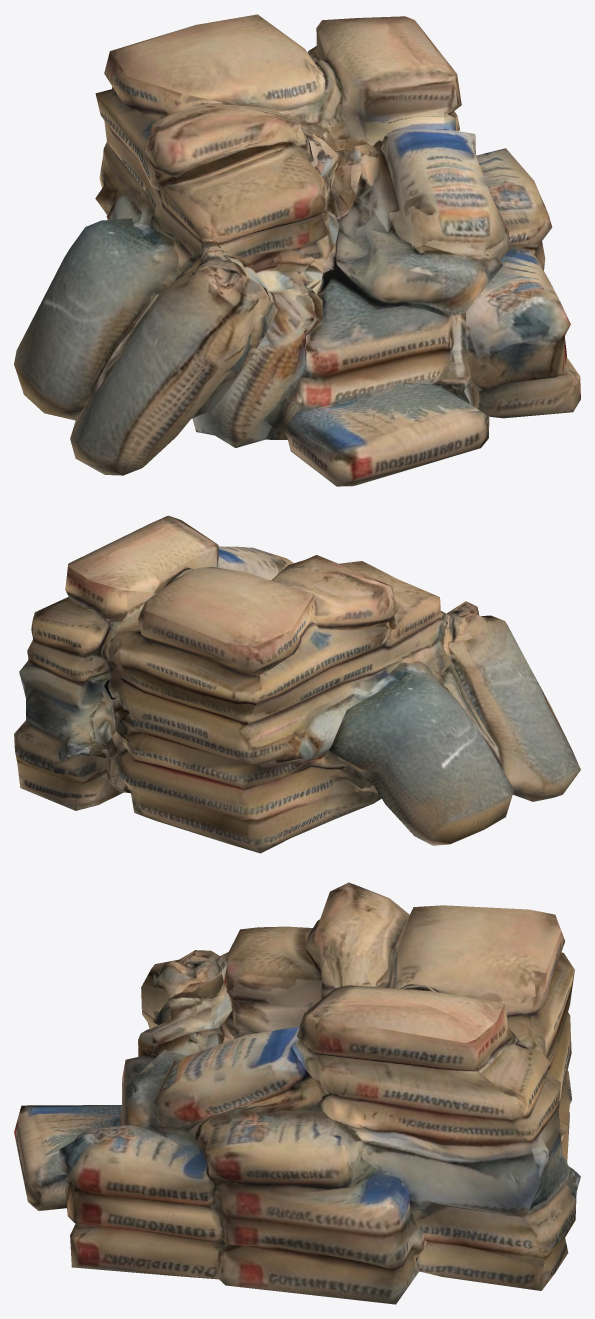
File: cement_bags.glb
The picture shows the model from 3 angles, top to bottom: view 1: azimuth 30°, elevation 25°; view 2: azimuth 150°, elevation 25°; view 3: azimuth 270°, elevation 25°; orthographic projection. The views are drawn at different scales.
Visible parts, largest first — view 1: cement_bags; view 2: cement_bags; view 3: cement_bags.
Part boxes in pixels (bbox=[...]): cement_bags: bbox=[14, 14, 580, 486]; cement_bags: bbox=[14, 515, 580, 853]; cement_bags: bbox=[14, 882, 580, 1304].
Bounding box in the file's own units: 1.4 × 0.7019 × 1.32.
1 material, 1 textured.
